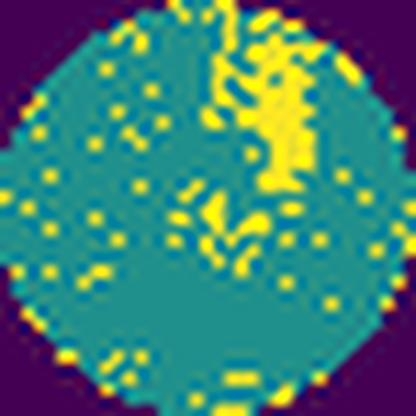Loc: (208, 0, 330, 194), (200, 187, 271, 248)
